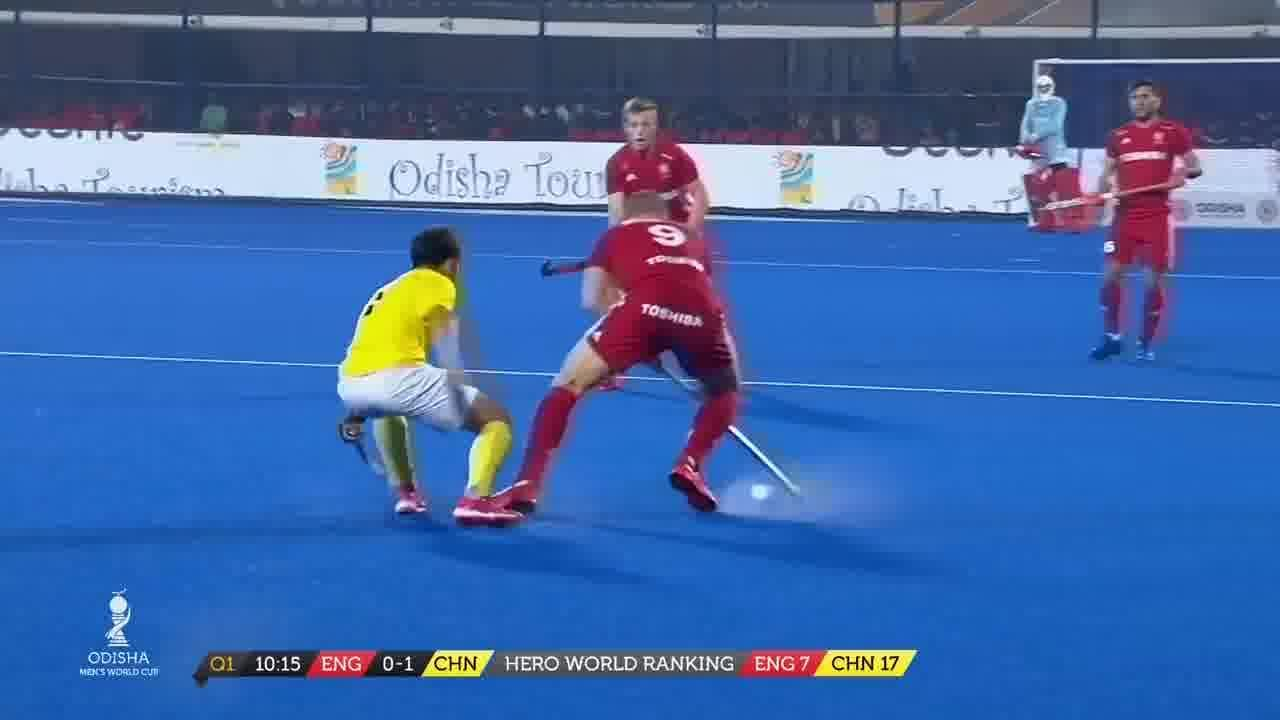ball: (746, 474, 780, 510)
